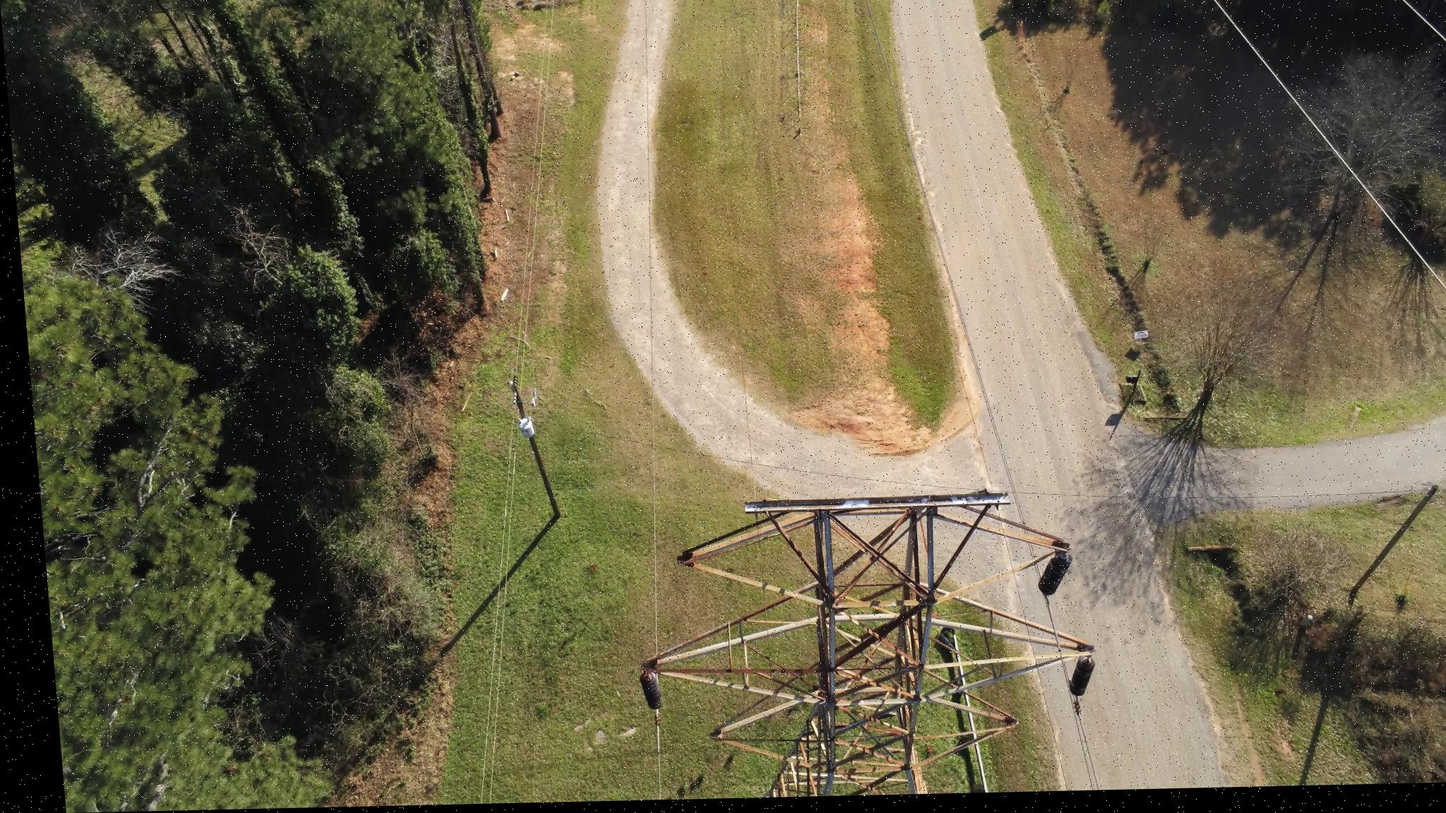tower: (623, 486, 1109, 800)
